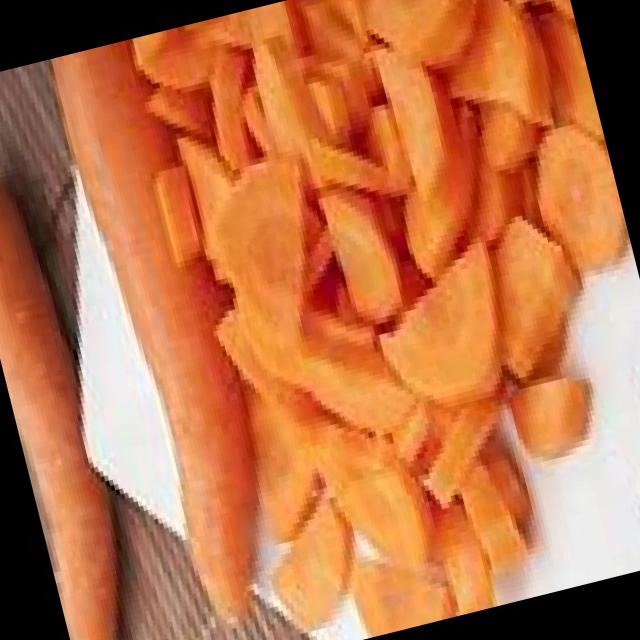carrot: (48, 34, 286, 628)
